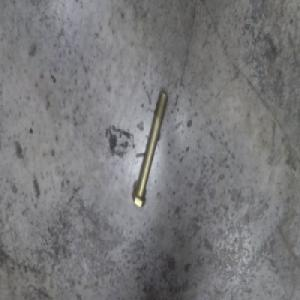Bolt: (130, 91, 171, 206)
